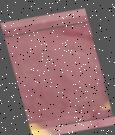scratch: (2, 7, 115, 135)
